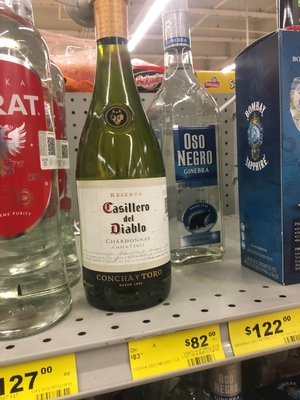casillero del diablo chardonnay: (70, 6, 163, 306)
